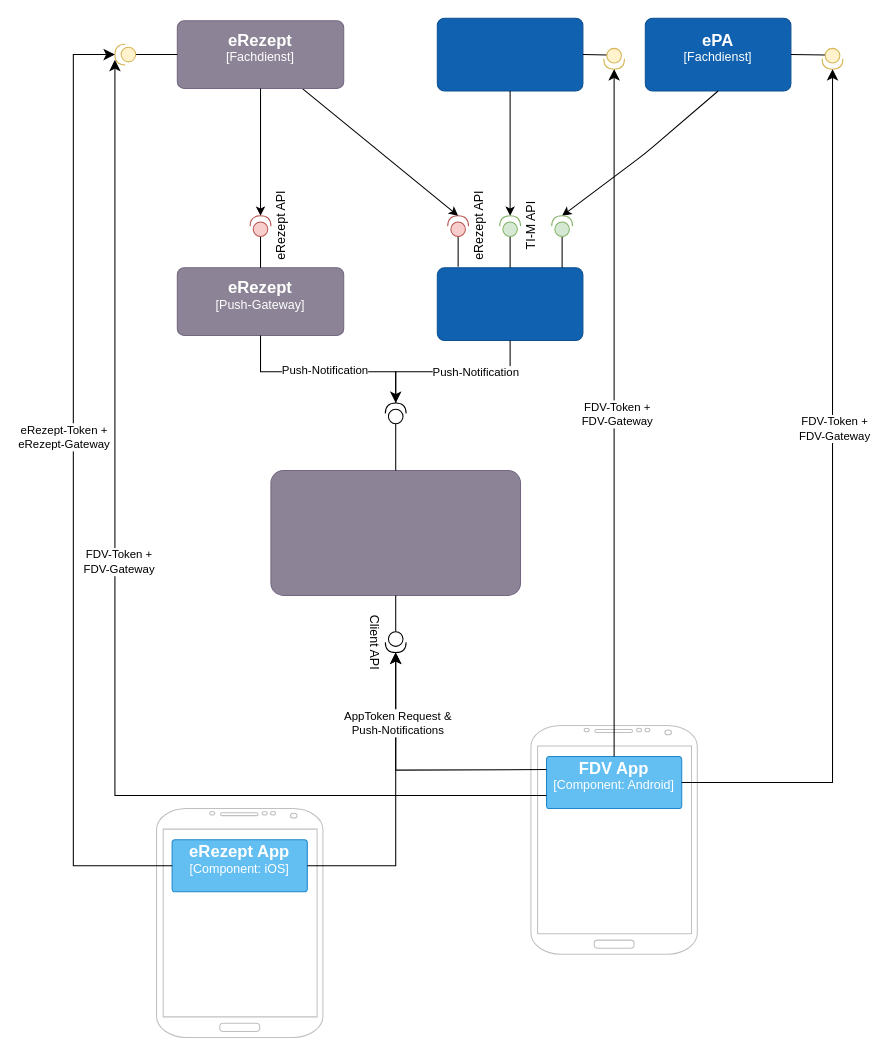
Image size: 887x1056. Some labels were removed from this diagram. Each missing label, with the centre of its shape:
ePA API: the point at 562,226
FDV [Push Gateway]: the point at 509,304
Push Anbieter [z.B. Apple / Google]: the point at 395,532
Server API: the point at 395,413
TI-Messenger [Fachdienst]: the point at 509,54
